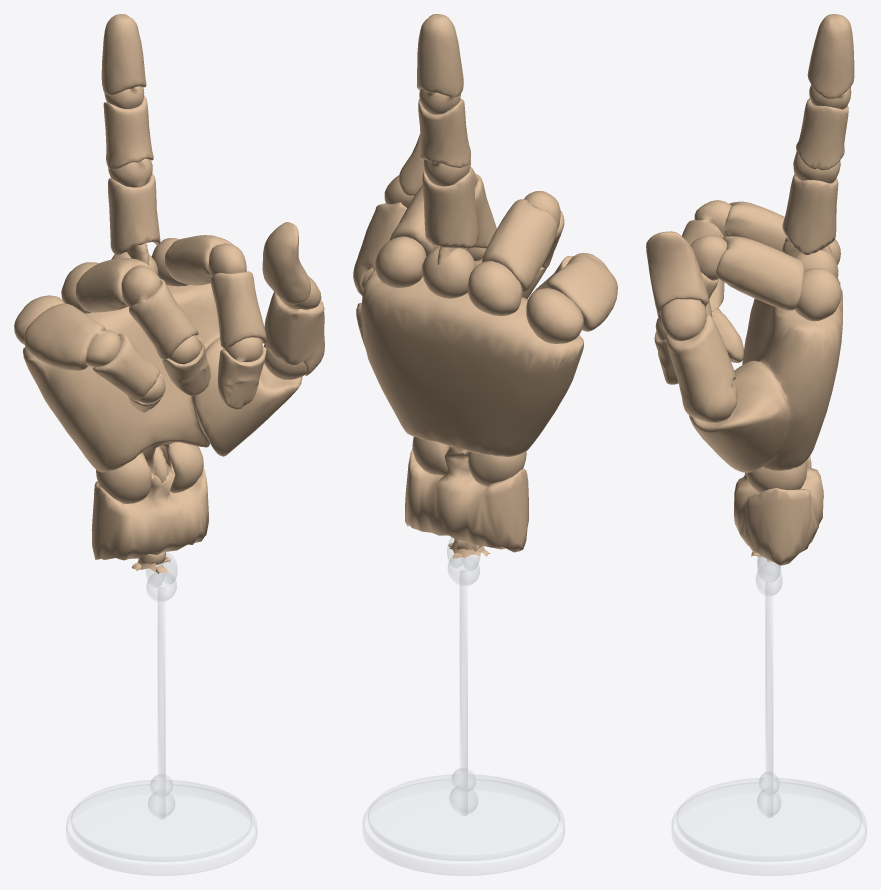
Rendered from hand_model_v1.glb.
The picture shows the model from 3 angles, left to right: view 1: azimuth 30°, elevation 25°; view 2: azimuth 150°, elevation 25°; view 3: azimuth 270°, elevation 25°; orthographic projection. The views are drawn at different scales.
Visible parts, largest first — view 1: hand_model_clean_geometry, stand_base_lower, stand_base_upper, stand_rod, stand_upper_joint; view 2: hand_model_clean_geometry, stand_base_lower, stand_base_upper, stand_rod, stand_upper_joint, stand_lower_joint_a; view 3: hand_model_clean_geometry, stand_base_lower, stand_base_upper, stand_rod, stand_upper_joint, stand_lower_joint_a, stand_upper_clamp_right.
Part boxes in pixels (x1,y1,x2,y2): hand_model_clean_geometry: (14,14,324,573); stand_base_lower: (66,784,256,875); stand_base_upper: (71,780,251,861); stand_rod: (158,587,165,818); stand_upper_joint: (146,572,176,601); hand_model_clean_geometry: (353,14,617,558); stand_base_lower: (363,779,564,875); stand_base_upper: (368,774,559,860); stand_rod: (460,570,467,815); stand_upper_joint: (448,555,479,585); stand_lower_joint_a: (449,786,477,814); hand_model_clean_geometry: (646,14,854,565); stand_base_lower: (672,782,866,875); stand_base_upper: (677,778,861,861); stand_rod: (765,582,772,817); stand_upper_joint: (756,570,782,595); stand_lower_joint_a: (757,789,780,816); stand_upper_clamp_right: (757,556,780,582).
Bounding box in the file's own units: 0.0887 × 0.258 × 0.0633.
